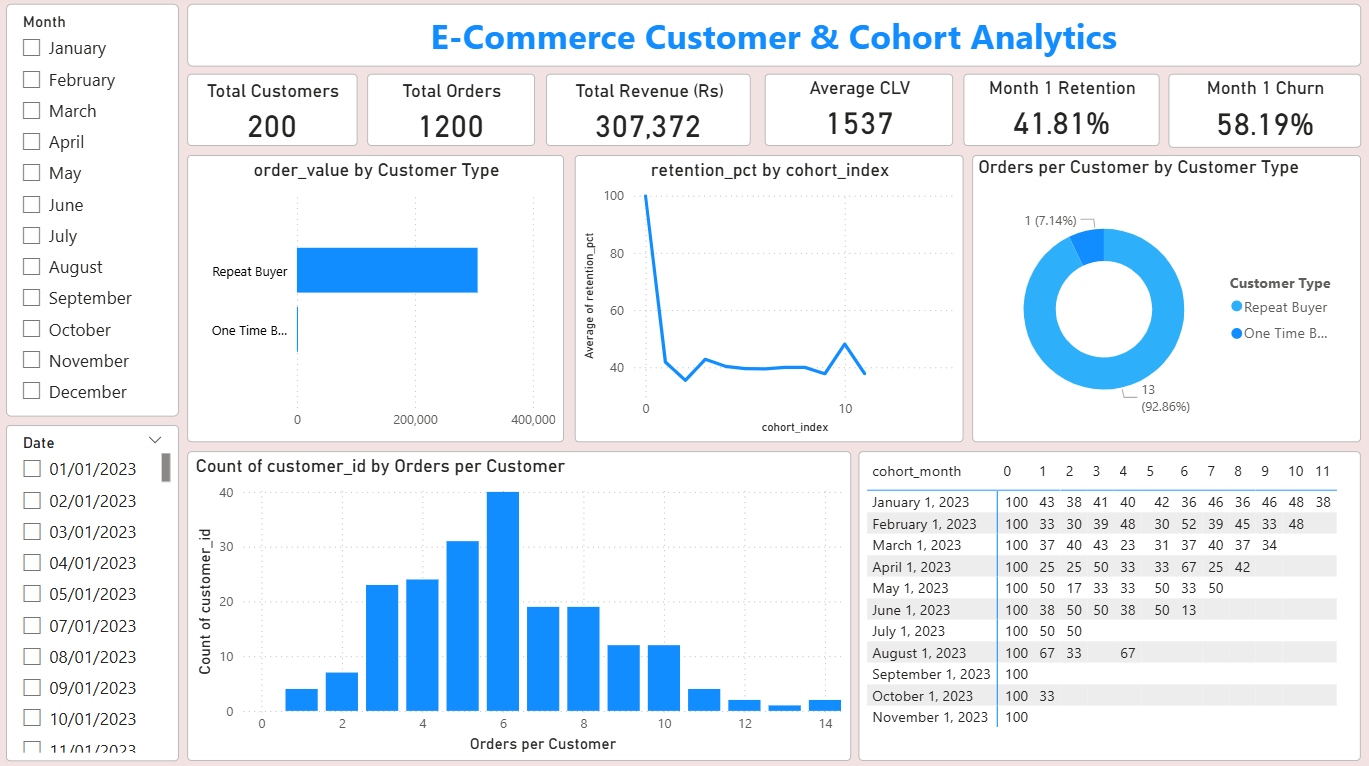

This screenshot's page, from the dashboard's own definition file:
{"tool":"powerbi","page":{"name":"E-commerce cohort Retention Analysis","canvas":[1280,720],"ordinal":0},"visuals":[{"type":"pivotTable","fields":{"Values":["Avg(retention_matrix.retention_pct)"],"Columns":["retention_matrix.cohort_index"],"Rows":["retention_matrix.cohort_month"]},"box":[802.8,424,467,288.3],"z":0},{"type":"card","title":"Total Customers","fields":{"Values":["orders.Total Customers"]},"box":[177.9,73.3,158.1,67.4],"z":1000},{"type":"card","title":"Total Orders","fields":{"Values":["CountNonNull(orders.order_id)"]},"box":[345.3,73.3,155.8,67.4],"z":2000},{"type":"card","title":"Total Revenue (Rs)","fields":{"Values":["orders.Total Revenue"]},"box":[511.6,73.3,190.7,67.4],"z":3000},{"type":"card","title":"Average CLV","fields":{"Values":["orders.Avg CLV"]},"box":[715.1,73.3,175.6,67.4],"z":4000},{"type":"card","title":"Month 1 Retention","fields":{"Values":["retention_matrix.Month 1 Retention"]},"box":[900,73.3,182.6,67.4],"z":5000},{"type":"donutChart","title":"Orders per Customer by Customer Type","fields":{"Category":["orders.Customer Type"],"Y":["Count(orders.Orders per Customer)"]},"box":[907.9,149.2,361.8,266.8],"z":6000},{"type":"slicer","fields":{"Values":["orders.order_date.Variation.Date Hierarchy.Month"]},"box":[9.3,8.1,160.5,383.7],"z":7000},{"type":"lineChart","title":"retention_pct by cohort_index","fields":{"Y":["Avg(retention_matrix.retention_pct)"],"Category":["retention_matrix.cohort_index"]},"box":[538.2,149.2,361.8,266.8],"z":8000},{"type":"textbox","box":[177.9,8.1,1091.9,58.1],"z":9000},{"type":"barChart","title":"order_value by Customer Type","fields":{"Category":["orders.Customer Type"],"Y":["Sum(orders.order_value)"]},"box":[177.5,149.2,350.5,266.8],"z":10001},{"type":"columnChart","fields":{"Category":["orders.Orders per Customer"],"Y":["Count(orders.customer_id)"]},"box":[177.5,424,617.3,288.3],"z":10002},{"type":"card","title":"Month 1 Churn","fields":{"Values":["retention_matrix.Month 1 Churn"]},"box":[1090.7,73.3,179.1,68.6],"z":10003},{"type":"slicer","fields":{"Values":["orders.Cohort Month"]},"box":[9.3,400,160.5,312.8],"z":10004}]}

Visuals, with their boxes in screenshot pixels (x1, y1, x2, y2), scaled from the page's 1280x720 canvas onto the 1369x766 screenshot:
pivotTable - Avg(retention_matrix.retention_pct) x retention_matrix.cohort_index: crop(859, 451, 1358, 758)
"Total Customers" card: crop(190, 78, 359, 150)
"Total Orders" card: crop(369, 78, 536, 150)
"Total Revenue (Rs)" card: crop(547, 78, 751, 150)
"Average CLV" card: crop(765, 78, 953, 150)
"Month 1 Retention" card: crop(963, 78, 1158, 150)
"Orders per Customer by Customer Type" donutChart: crop(971, 159, 1358, 443)
slicer - orders.order_date.Variation.Date Hierarchy.Month: crop(10, 9, 182, 417)
"retention_pct by cohort_index" lineChart: crop(576, 159, 963, 443)
textbox: crop(190, 9, 1358, 70)
"order_value by Customer Type" barChart: crop(190, 159, 565, 443)
columnChart - orders.Orders per Customer x Count(orders.customer_id): crop(190, 451, 850, 758)
"Month 1 Churn" card: crop(1167, 78, 1358, 151)
slicer - orders.Cohort Month: crop(10, 426, 182, 758)
